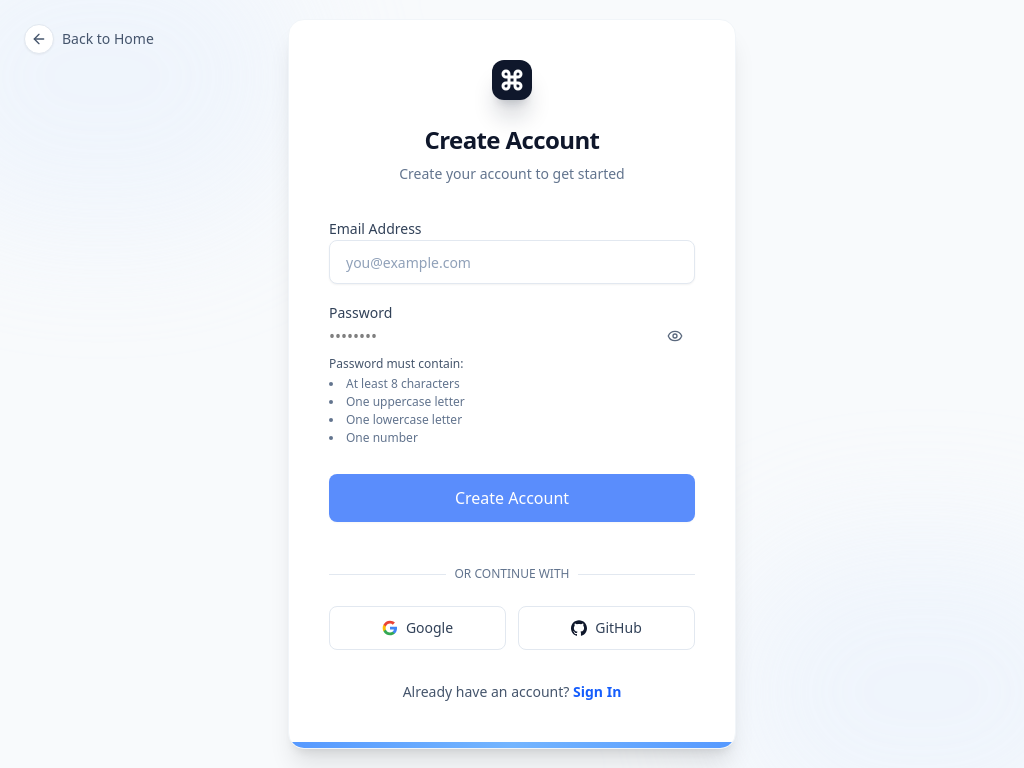
signUpPage › validates password minimum length
The image size is (1024, 768).
Type "Short1" into the password field labelled "Password" at (444, 336), box [329,324,560,348]
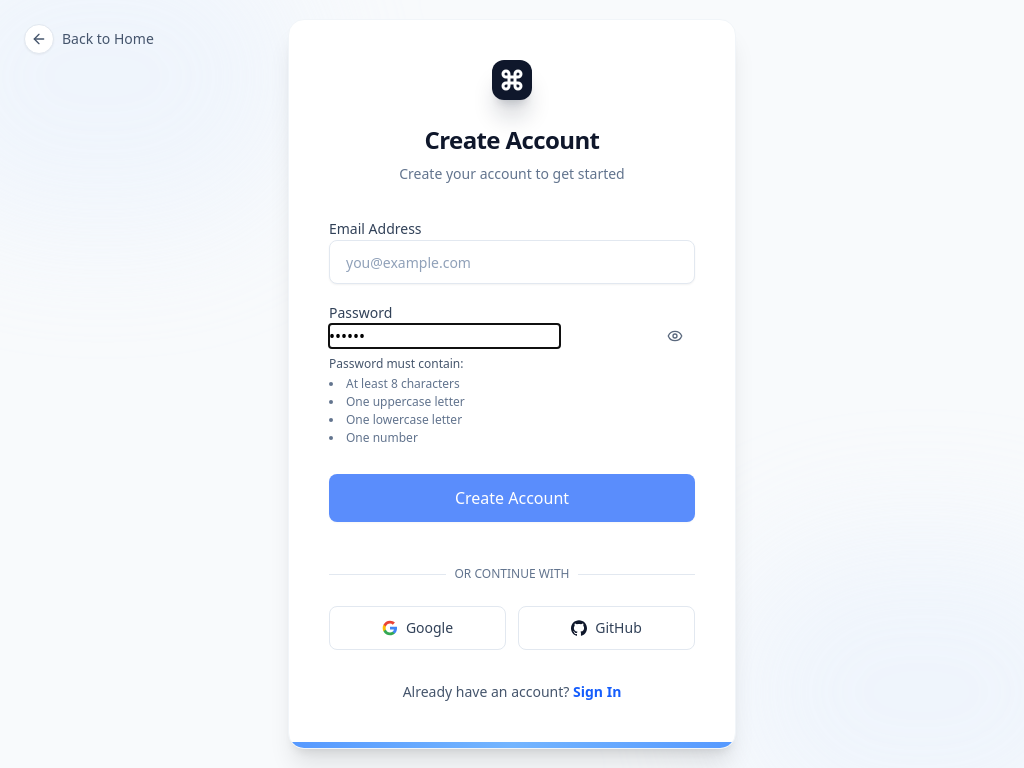
Press Tab
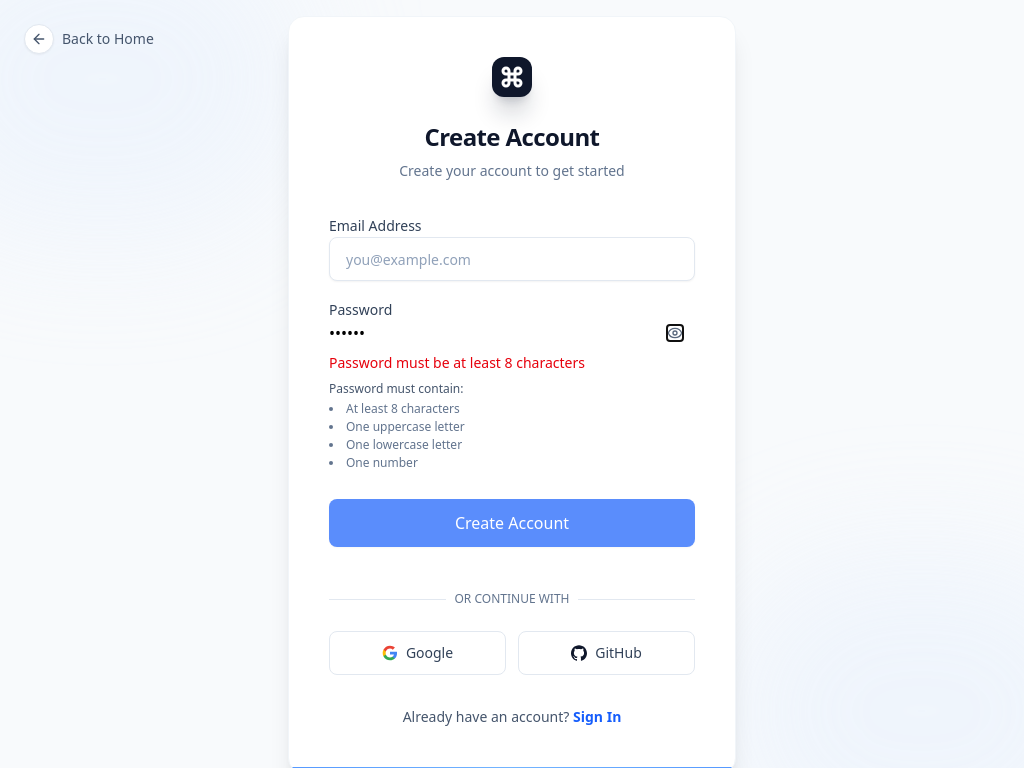
Result: the text "Password must be at least 8 characters" is shown at [329,353,585,372]
